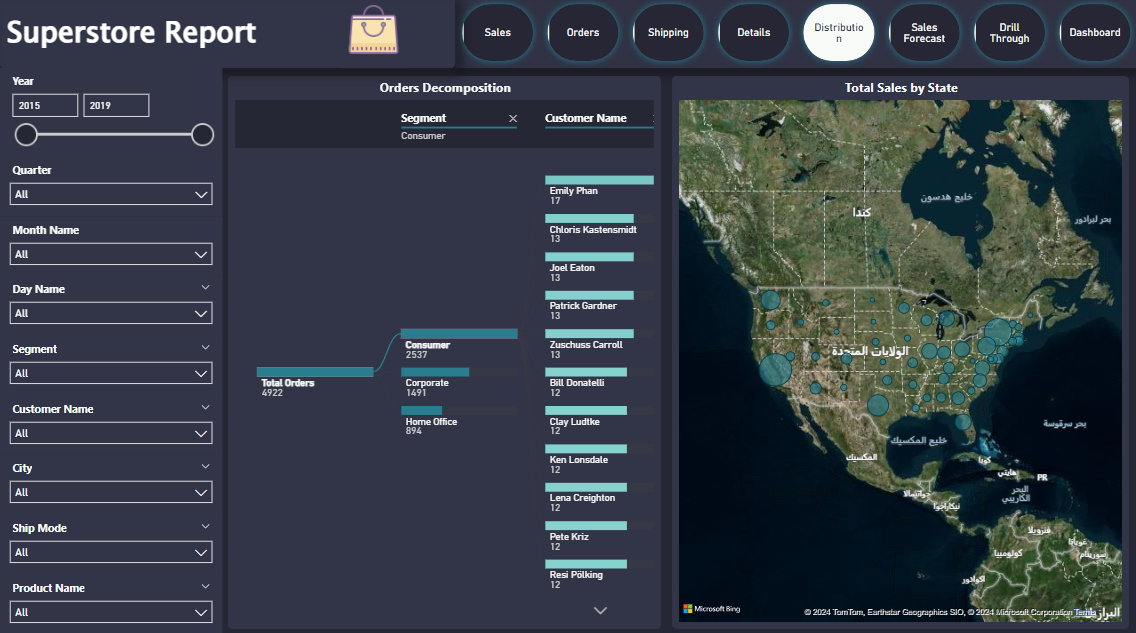

The page's visual inventory and layout, read from the dashboard file:
{"tool":"powerbi","page":{"name":"Distribution","canvas":[1280,720],"ordinal":4},"visuals":[{"type":"pageNavigator","title":"dfsfsd","box":[512,0,768,80],"z":0},{"type":"map","fields":{"Category":["Dim_places.State"],"Size":["Dax Measure.Total Sales"]},"box":[756,88.9,514.1,622.1],"z":1000},{"type":"decompositionTreeVisual","title":"Orders Decomposition","fields":{"Analyze":["Dax Measure.Total Orders"],"ExplainBy":["Dim_Customers.Segment","Dim_Customers.Customer Name"]},"box":[256.5,88.9,487.1,622.1],"z":2000},{"type":"textbox","box":[0,0,511.9,79.9],"z":3000},{"type":"image","box":[380.2,0,79.9,79.9],"z":4000},{"type":"slicer","fields":{"Values":["Dim_date.Year"]},"box":[0,79.9,250,100],"z":4001},{"type":"slicer","fields":{"Values":["Dim_date.Quarter"]},"box":[0,180,250,67],"z":4002},{"type":"slicer","fields":{"Values":["Dim_date.Month Name"]},"box":[0,247.5,249.8,66.4],"z":4003},{"type":"slicer","fields":{"Values":["Dim_Customers.Segment"]},"box":[0,381.4,249.8,67.5],"z":4004},{"type":"slicer","fields":{"Values":["Dim_places.City"]},"box":[0,515.2,249.8,67.5],"z":4005},{"type":"slicer","fields":{"Values":["Dim_date.Day Name"]},"box":[0,313.9,249.8,67.5],"z":4006},{"type":"slicer","fields":{"Values":["Dim_Customers.Customer Name"]},"box":[0,448.9,249.8,66.4],"z":4007},{"type":"slicer","fields":{"Values":["Dim_ShipMode.Ship Mode"]},"box":[0,582.8,249.8,67.5],"z":4008},{"type":"slicer","fields":{"Values":["Dim_ProductDetails.Product Name"]},"box":[0,650.2,249.8,67.5],"z":4009}]}

Visuals, with their boxes in screenshot pixels (x1, y1, x2, y2), scaled from the page's 1280x720 canvas onto the 1136x633 screenshot:
"dfsfsd" pageNavigator: [x1=454, y1=0, x2=1135, y2=70]
map - Dim_places.State x Dax Measure.Total Sales: [x1=671, y1=78, x2=1127, y2=625]
"Orders Decomposition" decompositionTreeVisual: [x1=228, y1=78, x2=660, y2=625]
textbox: [x1=0, y1=0, x2=454, y2=70]
image: [x1=337, y1=0, x2=408, y2=70]
slicer - Dim_date.Year: [x1=0, y1=70, x2=222, y2=158]
slicer - Dim_date.Quarter: [x1=0, y1=158, x2=222, y2=217]
slicer - Dim_date.Month Name: [x1=0, y1=218, x2=222, y2=276]
slicer - Dim_Customers.Segment: [x1=0, y1=335, x2=222, y2=395]
slicer - Dim_places.City: [x1=0, y1=453, x2=222, y2=512]
slicer - Dim_date.Day Name: [x1=0, y1=276, x2=222, y2=335]
slicer - Dim_Customers.Customer Name: [x1=0, y1=395, x2=222, y2=453]
slicer - Dim_ShipMode.Ship Mode: [x1=0, y1=512, x2=222, y2=572]
slicer - Dim_ProductDetails.Product Name: [x1=0, y1=572, x2=222, y2=631]
